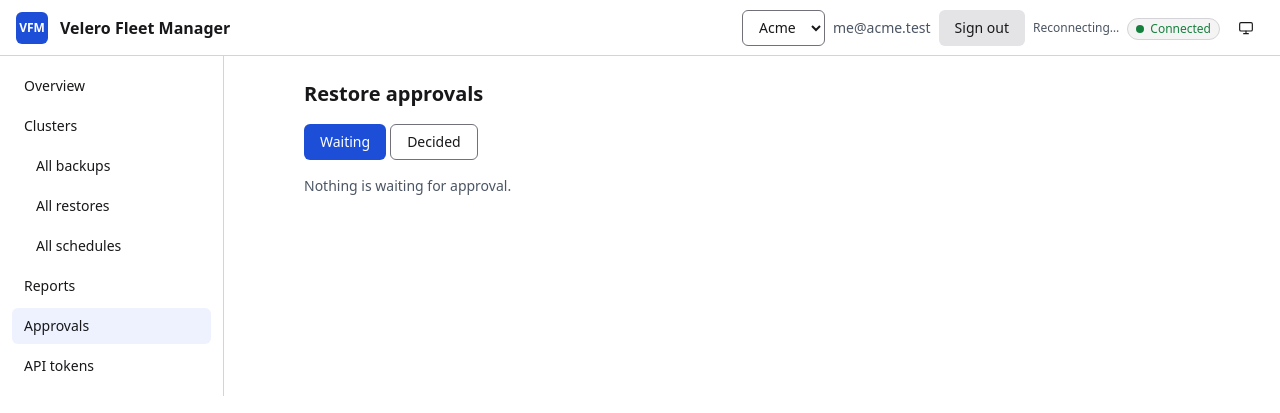
Test: the approvals page › says so when nothing is waiting, and when nothing was decided
expect the text "Nothing is waiting for approval." is shown: met, box [304,176,511,195]
What coordinates should you click on to do the following:
click the button "Decided"
I would click on:
 (434, 142)
Its box is [390,124,478,160].
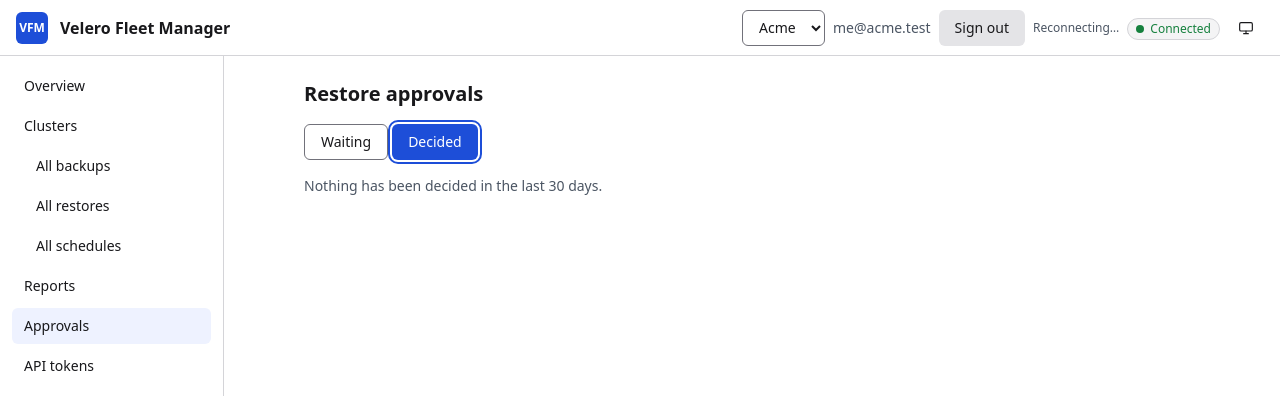
expect the text "Nothing has been decided in the last 30 days." is shown: met, box [304,176,602,195]
